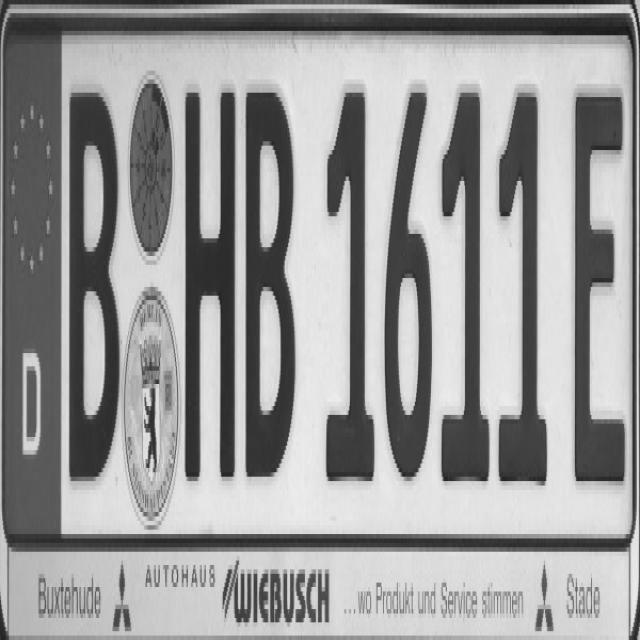License_Plate: (0, 0, 640, 549)
